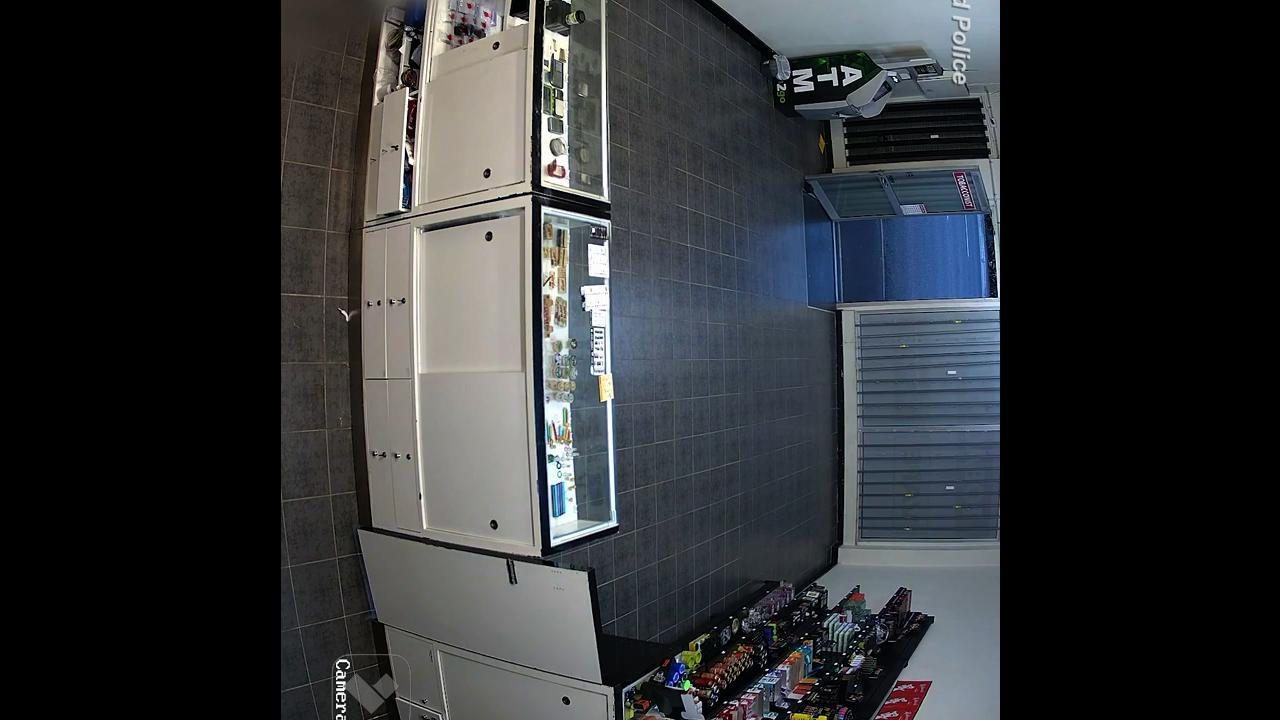melee: (631, 0, 705, 26)
